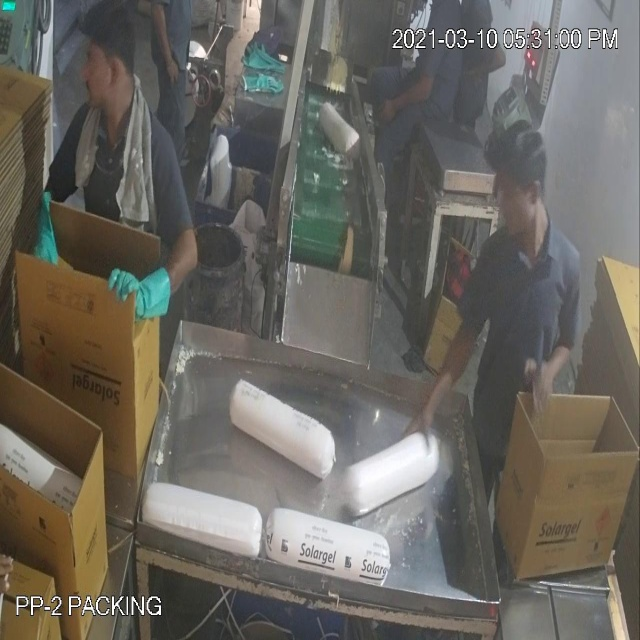Guantes: (111, 246, 180, 340), (26, 172, 72, 283)
Sin_guantes: (402, 268, 487, 456), (522, 317, 585, 418), (376, 71, 442, 133), (147, 1, 183, 84), (467, 36, 507, 92)
